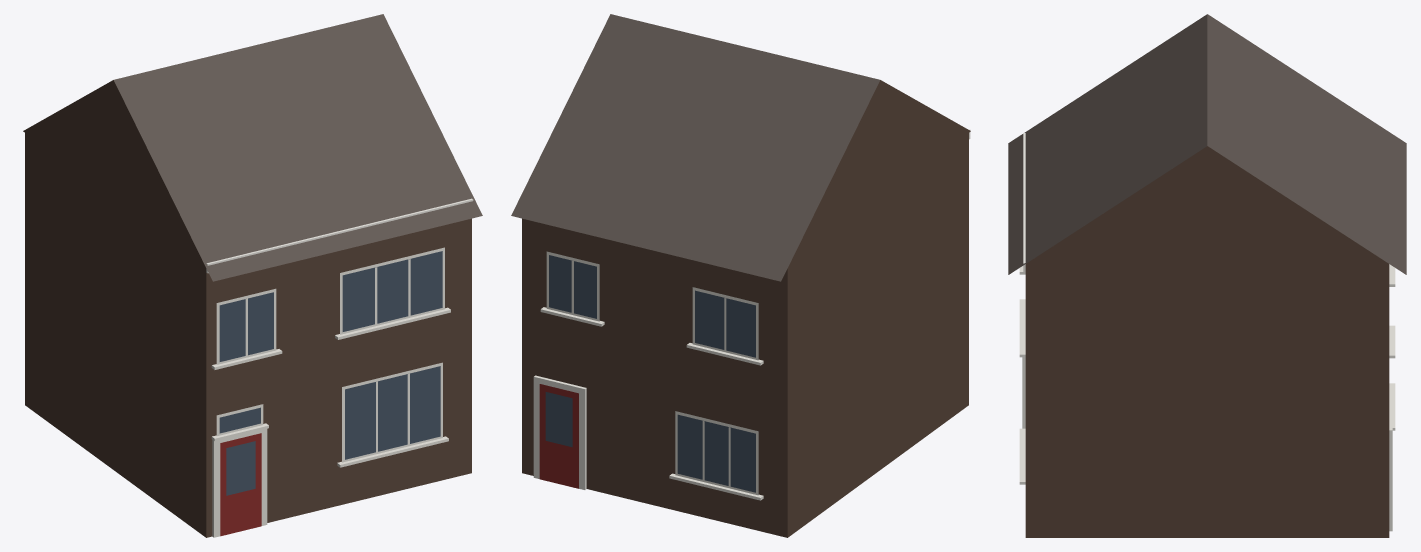
File: nd-to-row__wide__2__gable__long__solid__f1d0.glb
3 renders of one model, left to right at view 1: azimuth 30°, elevation 25°; view 2: azimuth 150°, elevation 25°; view 3: azimuth 270°, elevation 25°, orthographic.
Parts seen in each view (by area): view 1: nd-to-row__wide__2__gable__long__solid__f1d0; view 2: nd-to-row__wide__2__gable__long__solid__f1d0; view 3: nd-to-row__wide__2__gable__long__solid__f1d0.
Boxes of the visible parts, bbox=[...] form: nd-to-row__wide__2__gable__long__solid__f1d0: bbox=[23, 14, 482, 537]; nd-to-row__wide__2__gable__long__solid__f1d0: bbox=[511, 14, 970, 537]; nd-to-row__wide__2__gable__long__solid__f1d0: bbox=[1008, 14, 1406, 537].
Bounding box in the file's own units: 6.21 × 8.62 × 7.92.
